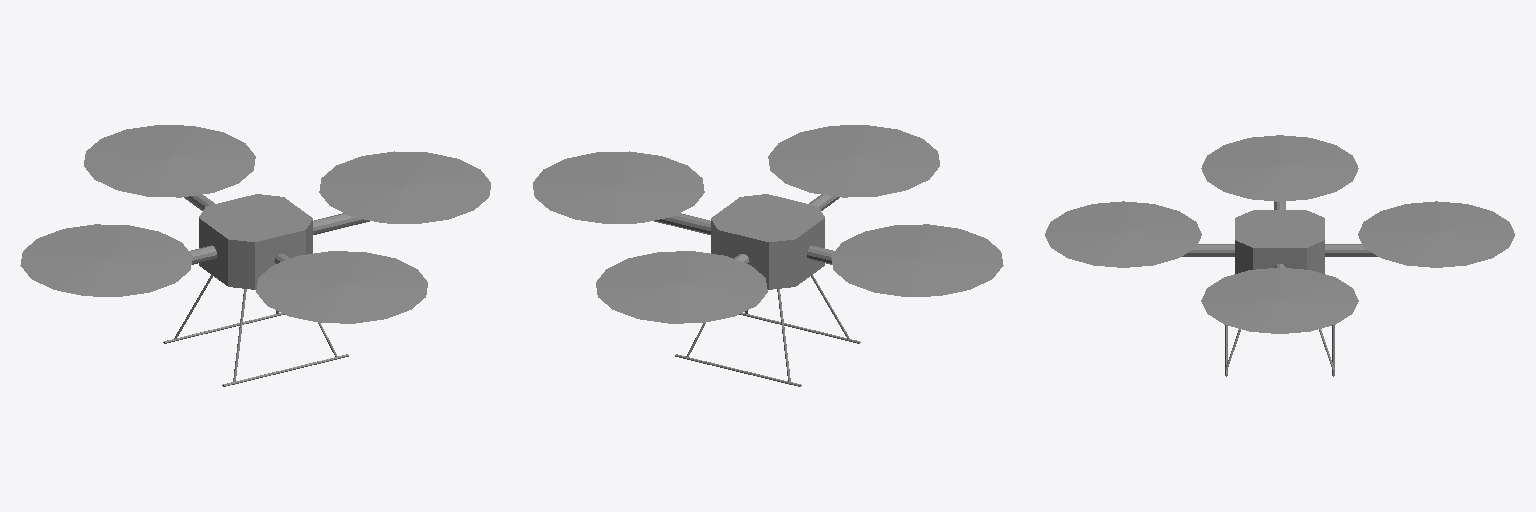
URDF robot description (quadrotor):
<?xml version="1.0" ?>

<!-- adapted from [author], [author], [author], "Trajectory Generation and Control for Precise Aggressive Maneuvers with Quadrotors" -->

<robot name="quadrotor">
 <joint name="floating_base" type="fixed">
	<origin rpy="0.0 0.0 0.0" xyz="0.0 0.0 0.0"/>
	<parent link="base_footprint"/>
	<child link="base_link"/>
 </joint>
  <link name="base_footprint">
     <visual>
     	<geometry>
		<cylinder length="0.01" radius="0.01" />
	</geometry>
	<material name="blue">
		<color rbga="1 0 0 1"/>
	</material>
     </visual>
  </link>
  <link name="base_link">
    <inertial>
      <mass value="0.5"/>
      <origin xyz="0 0 0"/>
    <inertia ixx="0.0023" ixy="0.0" ixz="0.0" iyy="0.0023" iyz="0.0" izz="0.004"/> 
    </inertial>
    <visual>
      <origin rpy="0 0 0" xyz="0 0 0"/>
      <geometry>
         <mesh filename="package://ct_models/urdf/Quadrotor/quadrotor_base.dae" scale="0.1 0.1 0.1"/>
      </geometry>
    </visual>
    <!-- note: the original hector quadrotor urdf had a (simplified, but still complex) collision mesh, too -->
    <collision>
      <origin rpy="0 0 0" xyz="0 0 0"/>
      <geometry>
        <cylinder radius=".3" length=".1"/>
      </geometry>
    </collision>      
  </link>

  
</robot>

--- What the picture shows (computed from the rendered views, not written in the file) ---
The picture shows the robot from 3 angles, left to right: view 1: azimuth 30°, elevation 25°; view 2: azimuth 150°, elevation 25°; view 3: azimuth 270°, elevation 25°; orthographic projection.
Model quadrotor with 2 links and 1 joints (1 fixed), rooted at base_footprint, posed every joint at zero.
Links seen in each view (by area): view 1: base_link; view 2: base_link; view 3: base_link.
Link boxes in pixels (left/top/right/bottom): base_link: left=20, top=125, right=490, bottom=386; base_link: left=533, top=125, right=1003, bottom=386; base_link: left=1045, top=135, right=1514, bottom=376.
Bounding box of the posed robot: 0.5924 × 0.5924 × 0.1666 m (x, y, z).
1 mesh visuals loaded from 1 distinct referenced files (1 Collada DAE).